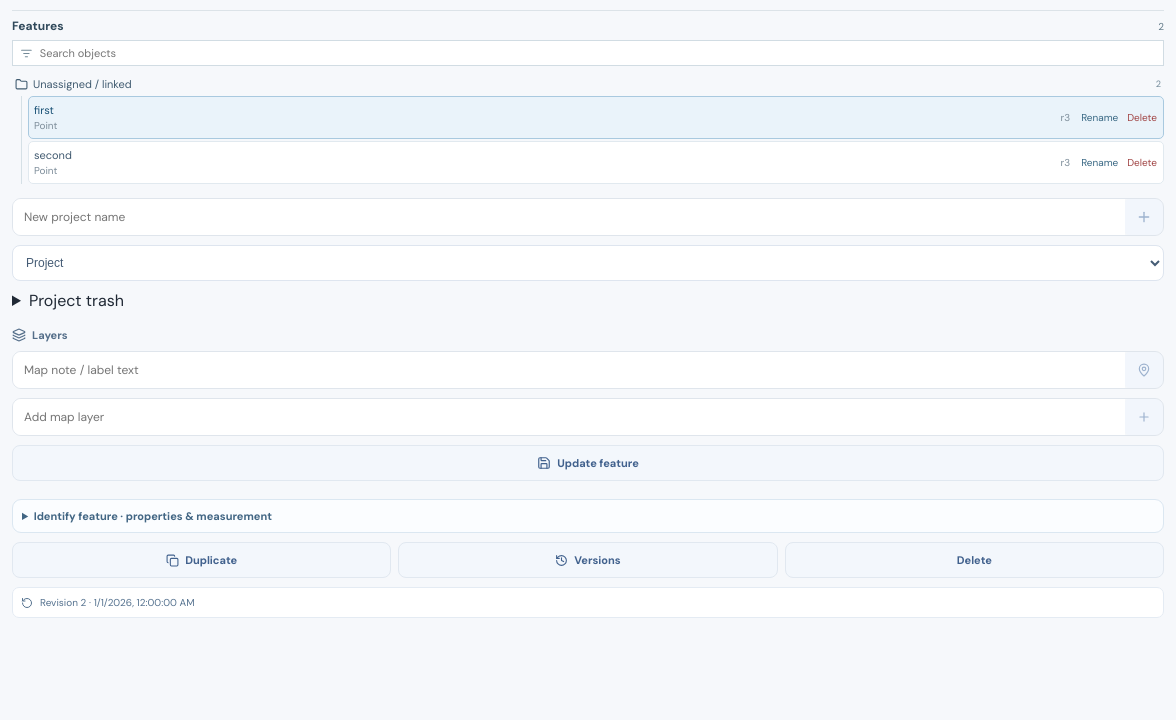
Test case: reports a manual history request failure without an unhandled rejection
This screenshot has width=1176, height=720.
Expected: the button "Revision 2 · 1/1/2026, 12:00:00 AM" is shown, [12, 587, 1164, 618]
Click the button "Versions" at [588, 560], box [398, 542, 778, 578]
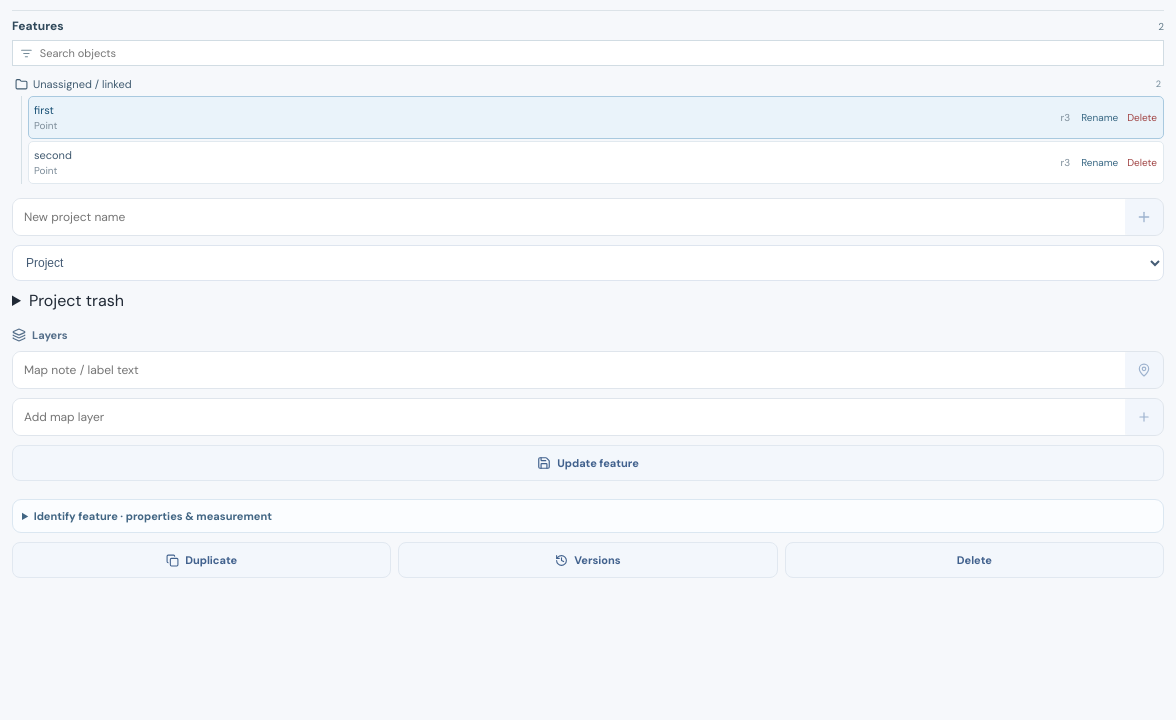
Click the button "Versions" at [588, 560], box [398, 542, 778, 578]
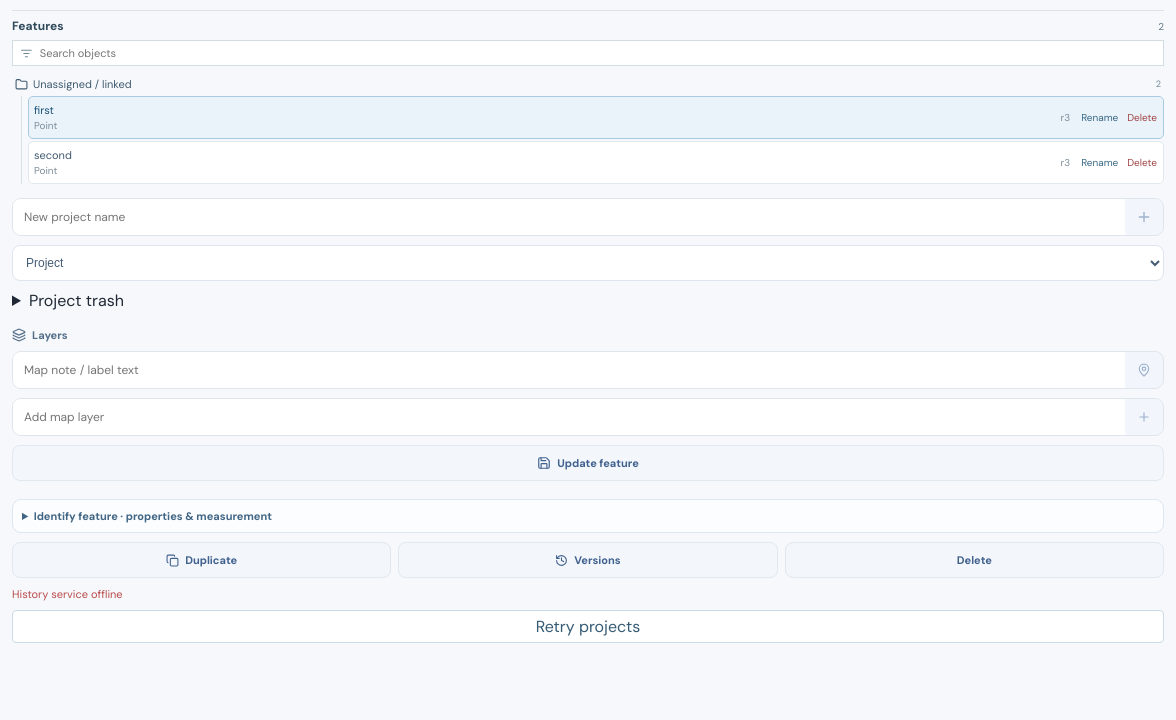
Expected: the button "Revision 2" is not shown
Result: the text "History service offline" is shown at [12, 587, 123, 601]
